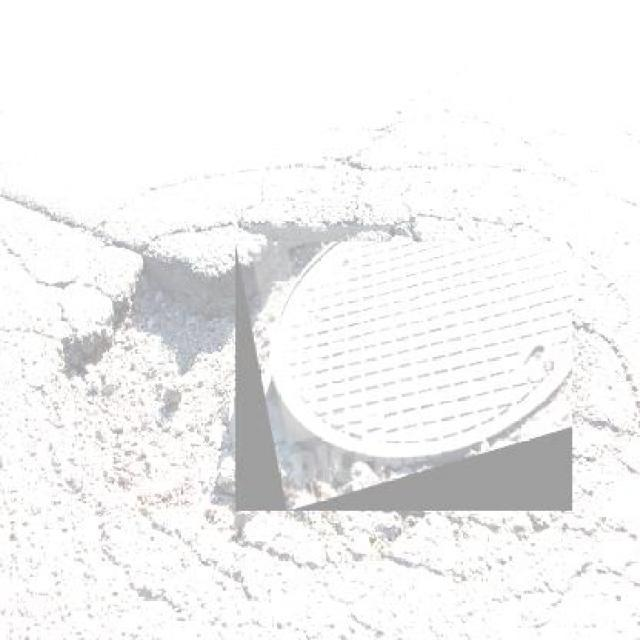Manhole: (235, 242, 572, 510)
Pothole: (110, 234, 234, 368), (234, 216, 308, 288), (50, 320, 113, 384)
